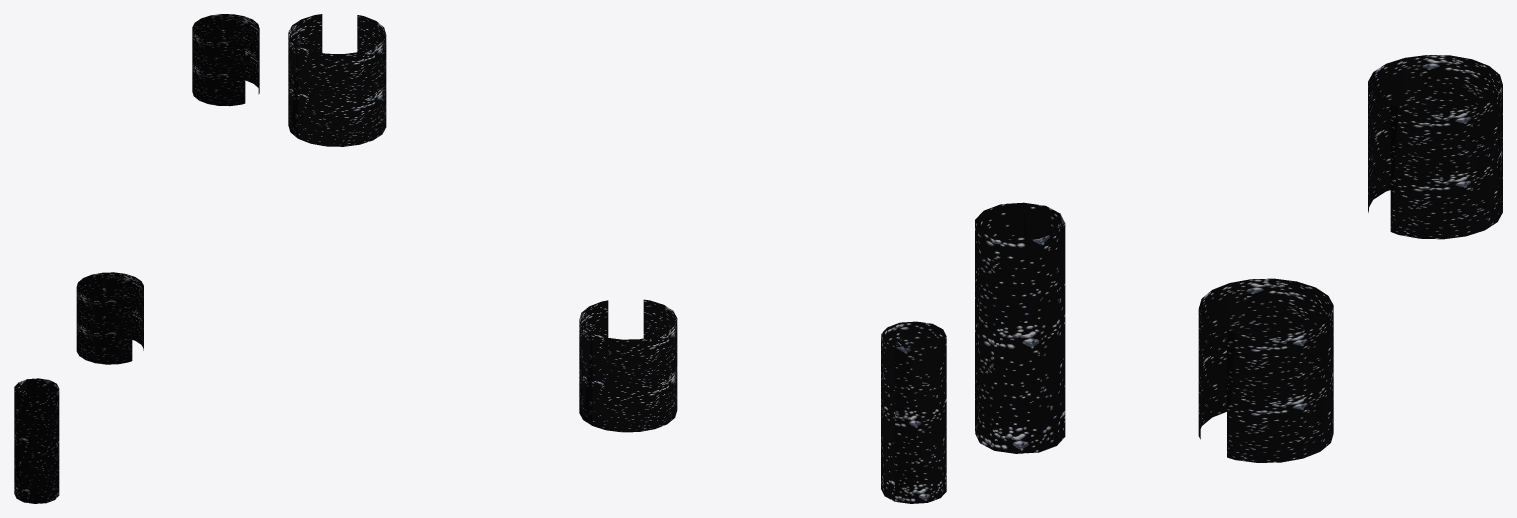
Rendered from stg610_MotTank_24.obj.
3 views of the same model, side by side, from view 1: azimuth 30°, elevation 25°; view 2: azimuth 150°, elevation 25°; view 3: azimuth 270°, elevation 25° (orthographic). The views are drawn at different scales.
Visible parts, largest first — view 1: polygon0, polygon1, polygon2; view 2: polygon2, polygon0, polygon1; view 3: polygon1, polygon0, polygon2.
Part boxes in pixels (<box>): polygon0: <box>76,272,143,364</box>; polygon1: <box>192,14,259,106</box>; polygon2: <box>14,378,59,503</box>; polygon2: <box>881,321,946,503</box>; polygon0: <box>579,299,677,432</box>; polygon1: <box>288,14,386,146</box>; polygon1: <box>1368,55,1502,239</box>; polygon0: <box>1198,278,1333,462</box>; polygon2: <box>975,202,1065,453</box>.
Bounding box in the file's own units: 1252 × 1118 × 838.
Materials: 1 (1 with a texture image).
